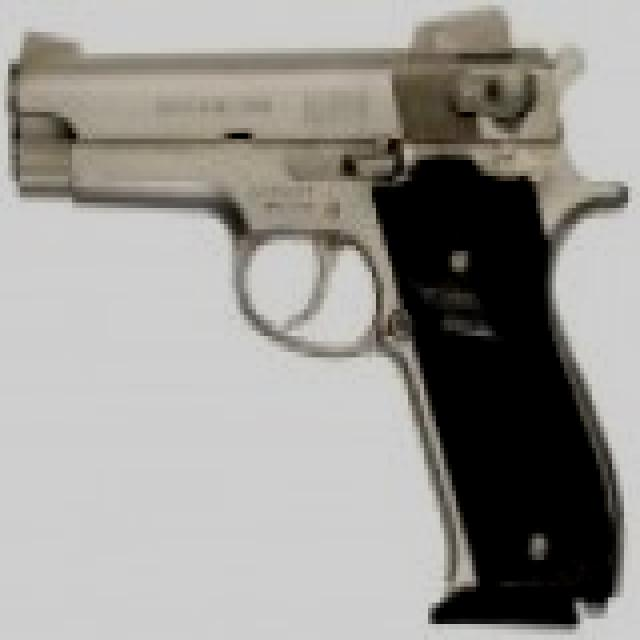pistol: (4, 21, 616, 630)
